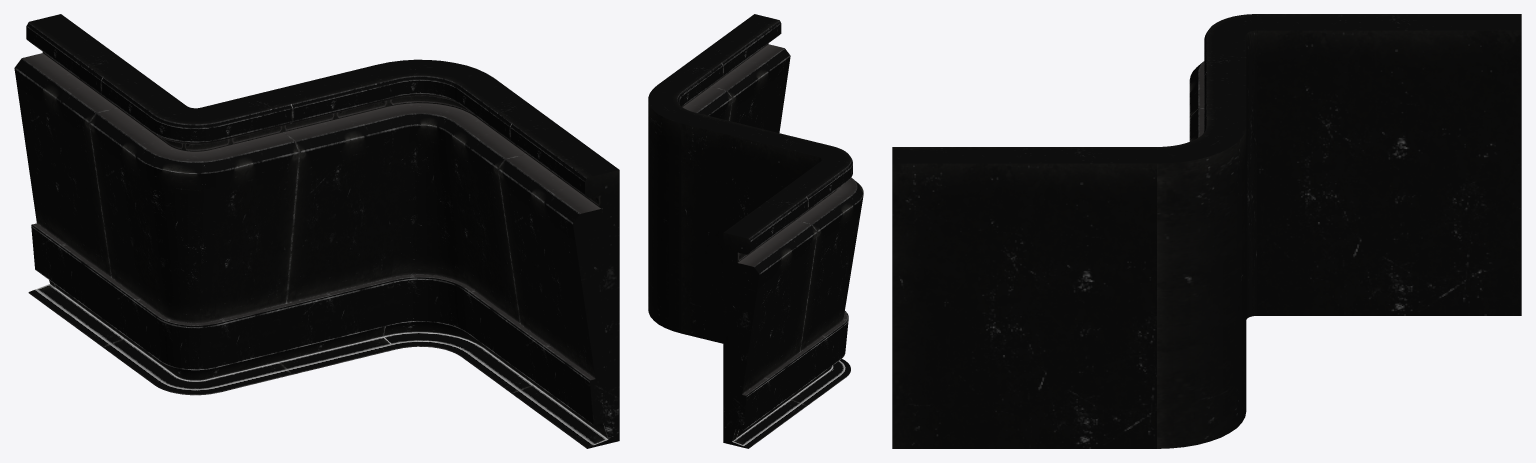
Rendered from SM_Wall_Corner_C.FBX.
3 views of the same model, side by side, from view 1: azimuth 30°, elevation 25°; view 2: azimuth 150°, elevation 25°; view 3: azimuth 270°, elevation 25° (orthographic). The views are drawn at different scales.
Parts seen in each view (by area): view 1: SM_Wall_Corner_C; view 2: SM_Wall_Corner_C; view 3: SM_Wall_Corner_C.
Part boxes in pixels (x1=…): SM_Wall_Corner_C: x1=14, y1=14, x2=619, y2=448; SM_Wall_Corner_C: x1=648, y1=14, x2=863, y2=448; SM_Wall_Corner_C: x1=892, y1=14, x2=1521, y2=448.
Bounding box in the file's own units: 472 × 400 × 800.
Materials: 1 (1 with a texture image).
